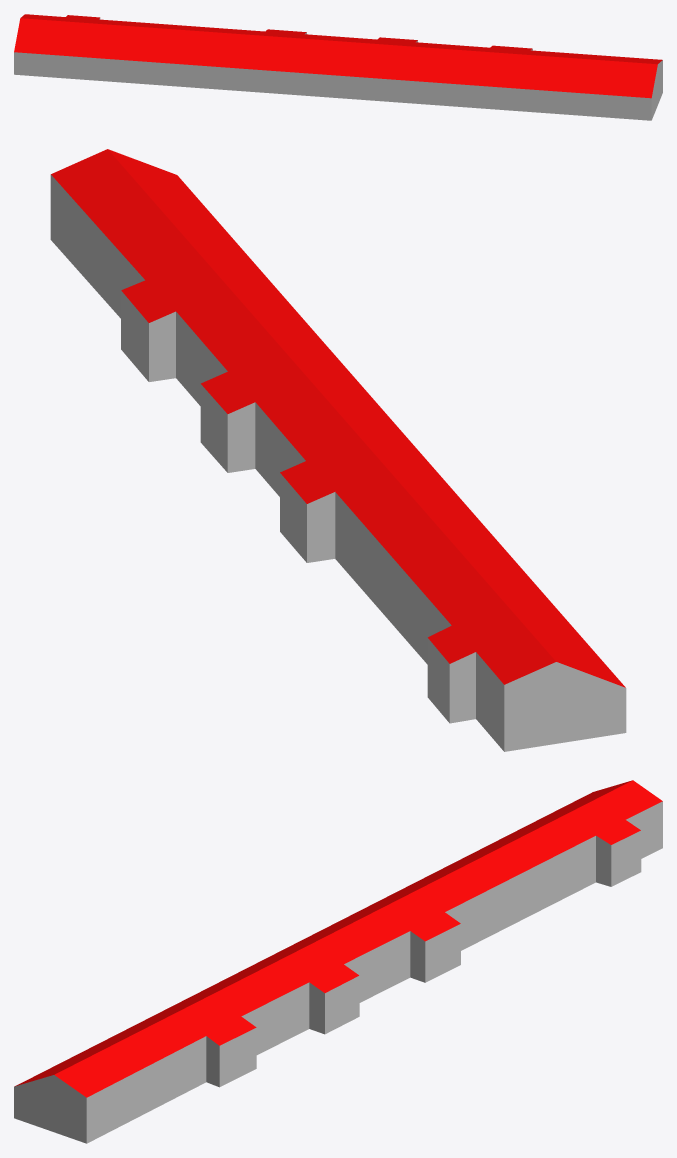
3 views of the same model, one above another, from view 1: azimuth 30°, elevation 25°; view 2: azimuth 150°, elevation 25°; view 3: azimuth 270°, elevation 25° (orthographic). The views are drawn at different scales.
Bounding box in the file's own units: 53.22 × 4.46 × 45.59.
